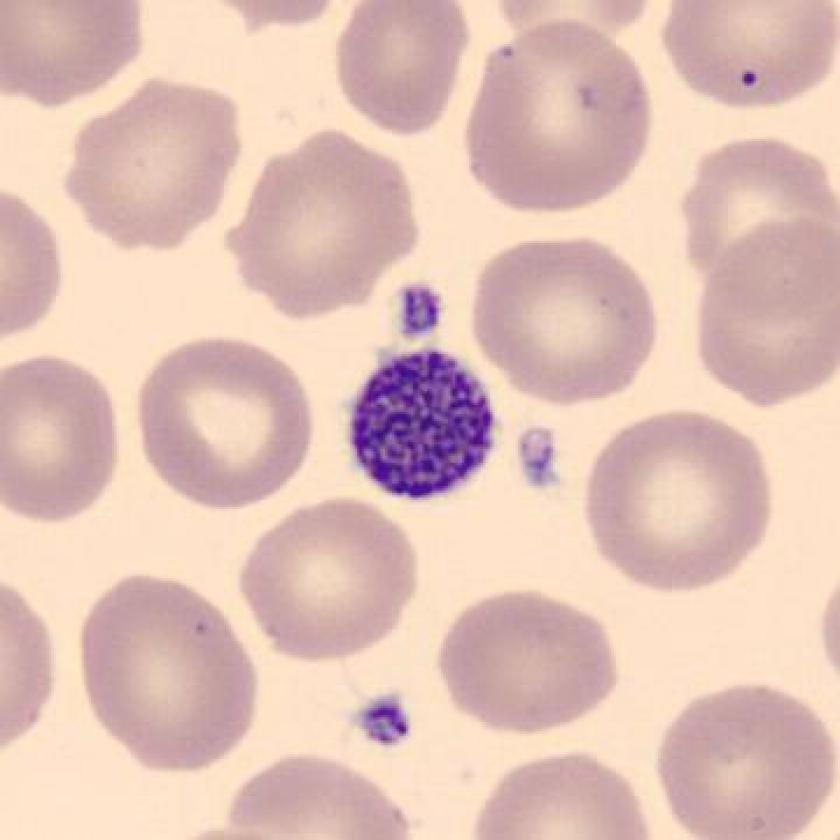platelets: (340, 341, 508, 506), (508, 415, 571, 499), (346, 688, 414, 760), (388, 274, 447, 339)
